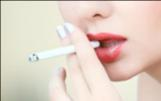Cigarette: (28, 40, 100, 62)
